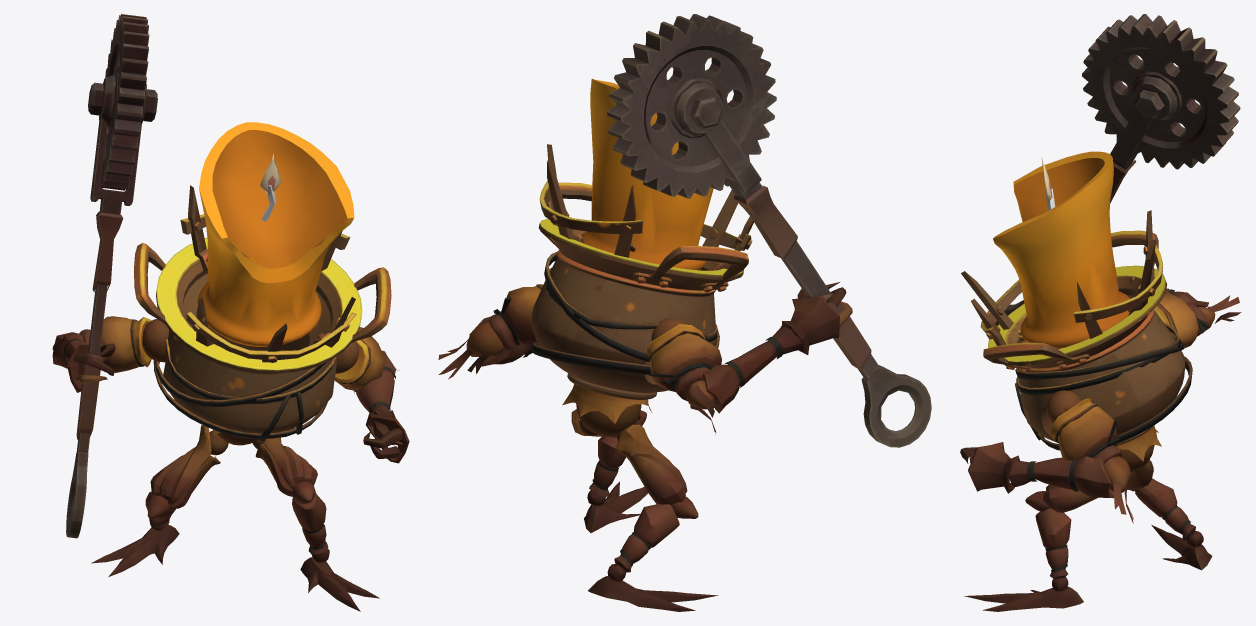
Rendered from Amber_Melee.glb.
3 views of the same model, side by side, from view 1: azimuth 30°, elevation 25°; view 2: azimuth 150°, elevation 25°; view 3: azimuth 270°, elevation 25° (orthographic). The views are drawn at different scales.
Parts seen in each view (by area): view 1: models\npc_units\troopers\amber_trooper_01_melee\amber_troop (×2); view 2: models\npc_units\troopers\amber_trooper_01_melee\amber_troop (×2); view 3: models\npc_units\troopers\amber_trooper_01_melee\amber_troop (×2).
Boxes of the visible parts, bbox=[...] form: models\npc_units\troopers\amber_trooper_01_melee\amber_troop (×2): bbox=[52, 14, 409, 611]; models\npc_units\troopers\amber_trooper_01_melee\amber_troop (×2): bbox=[438, 14, 931, 611]; models\npc_units\troopers\amber_trooper_01_melee\amber_troop (×2): bbox=[960, 14, 1241, 611].
Size of the model in its own units: 1.69 by 2.22 by 1.08.
5 materials, 3 textured.
